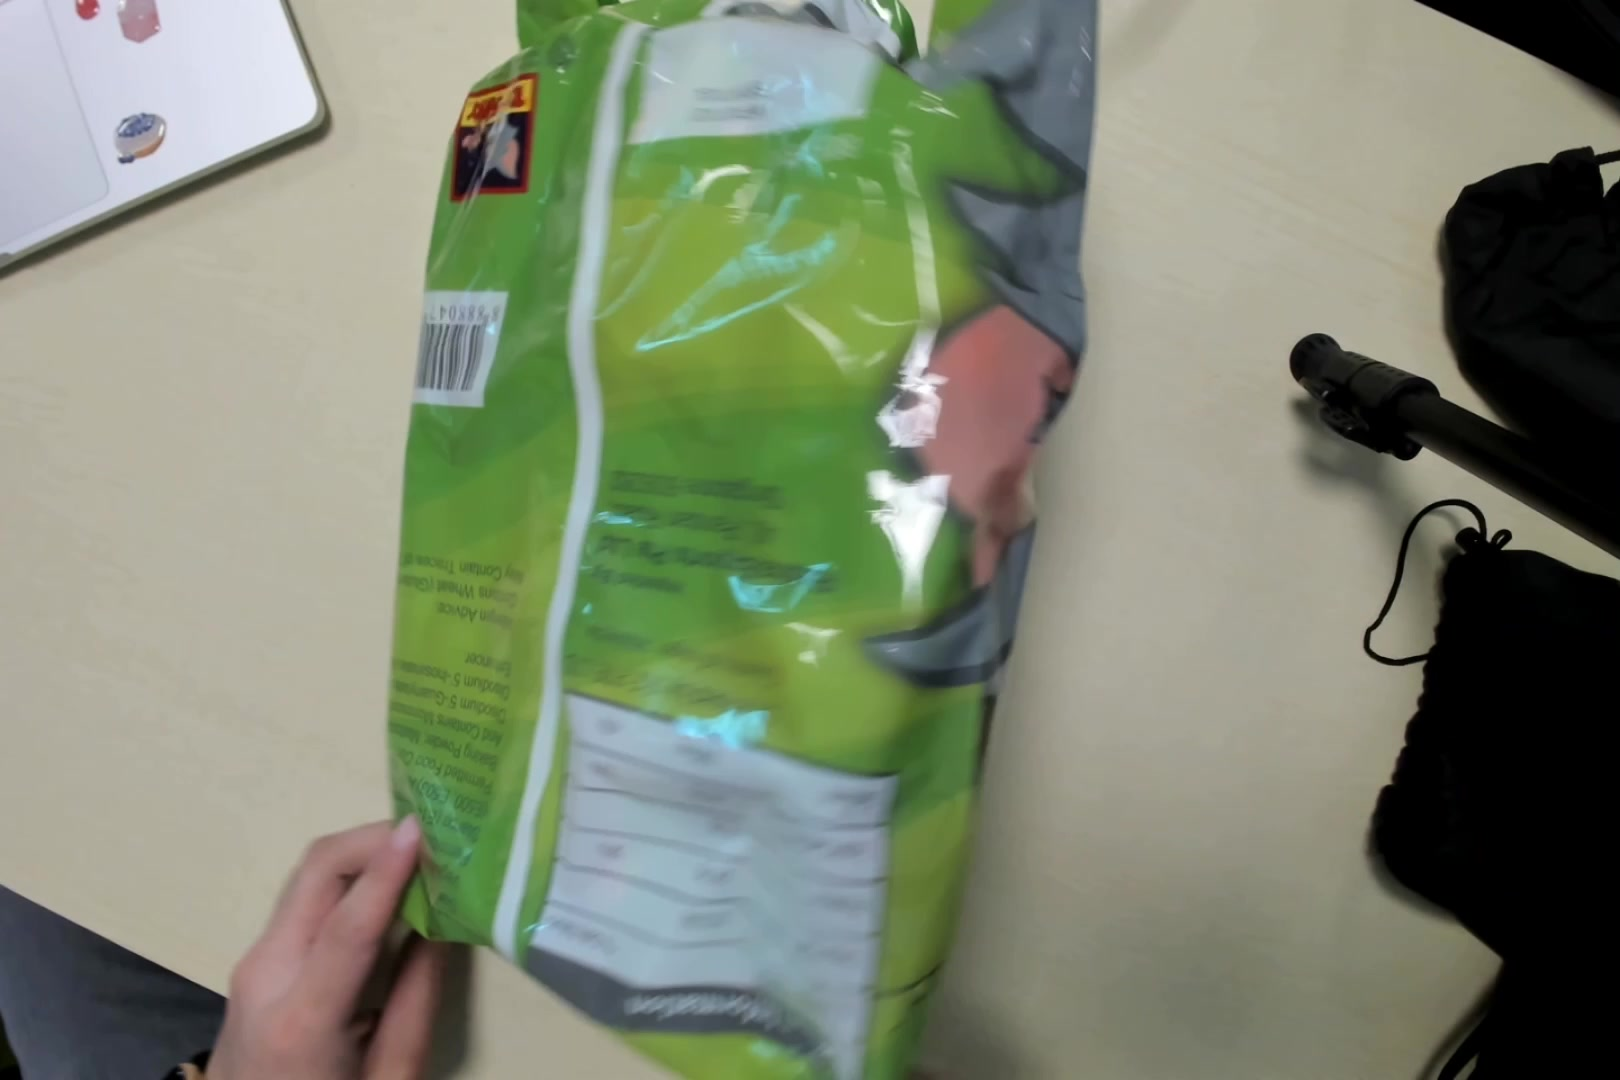PotatoChipsKeropok_200-299g_Halal_NonHealthy: (419, 4, 1092, 1080)
